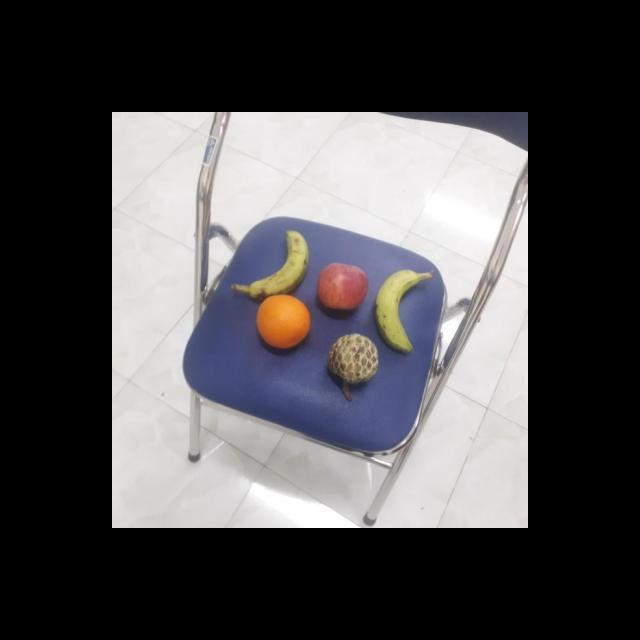Sakya fruit: (326, 331, 380, 384)
apple: (318, 262, 370, 314)
banana: (238, 228, 311, 298), (374, 270, 434, 352)
orange: (254, 294, 312, 352)
